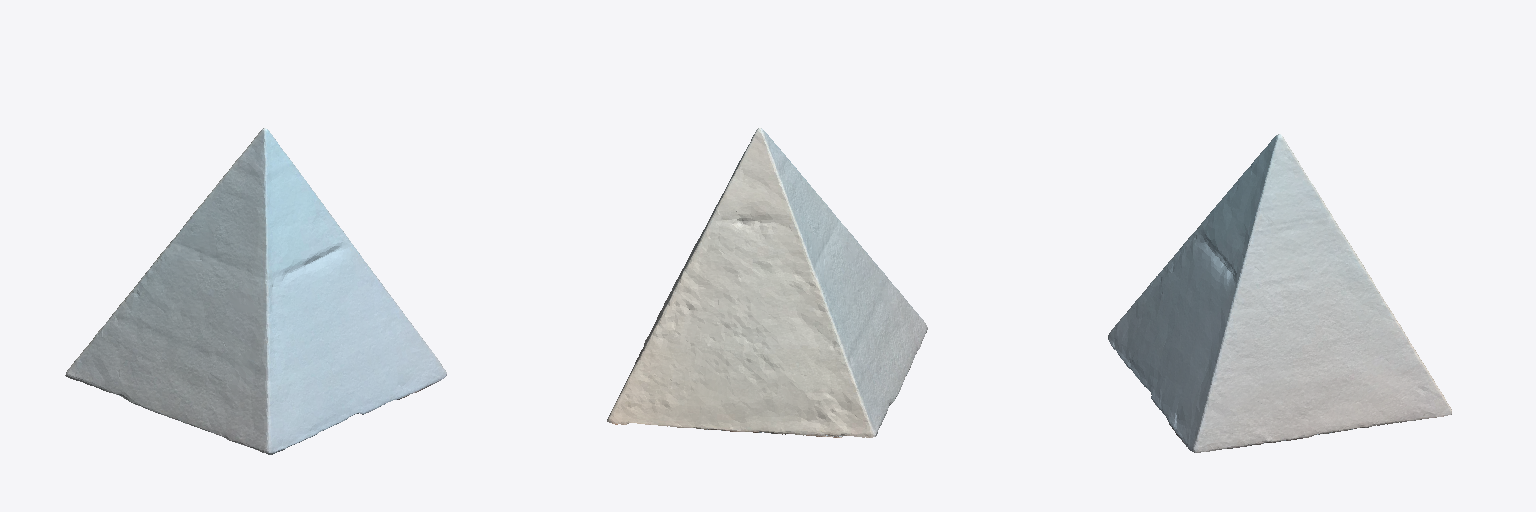
3 renders of one model, left to right at view 1: azimuth 30°, elevation 25°; view 2: azimuth 150°, elevation 25°; view 3: azimuth 270°, elevation 25°, orthographic.
Size of the model in its own units: 1.76 by 1.43 by 1.77.
Materials: 2 (2 with a texture image).